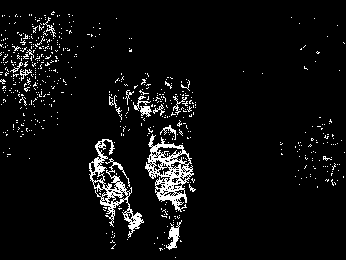person: (87, 137, 144, 251), (146, 126, 195, 251), (133, 71, 156, 146), (171, 77, 197, 139), (108, 71, 132, 137), (152, 75, 178, 126)
